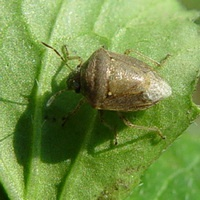insect: (42, 42, 171, 110)
